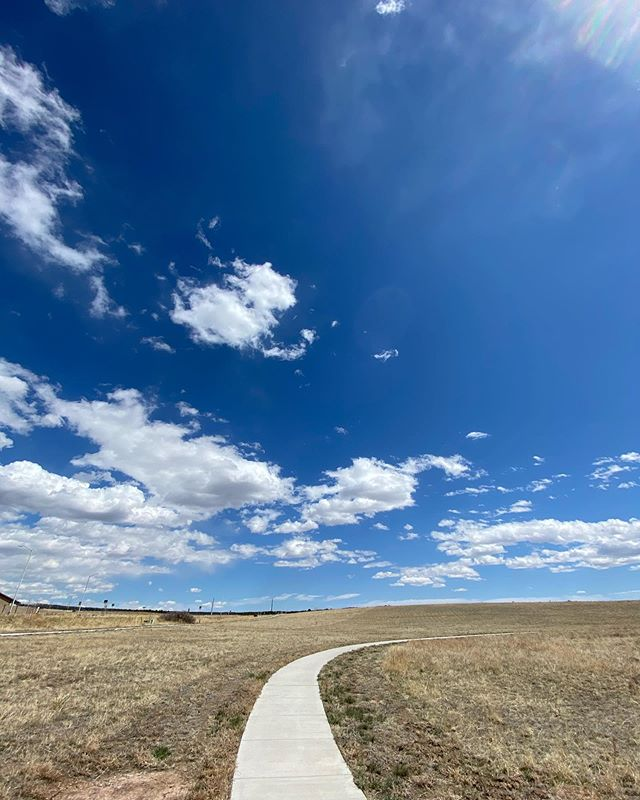grass: (340, 637, 640, 800), (1, 611, 229, 786)
road: (233, 632, 398, 799)
sky: (1, 1, 635, 587)
